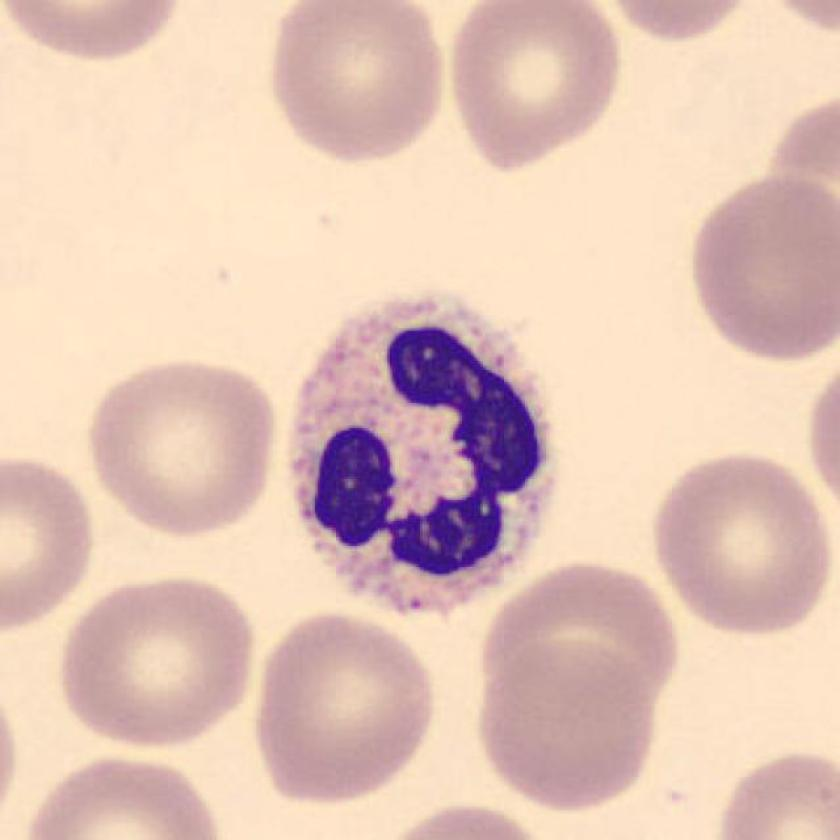neutrophil: (291, 298, 554, 611)
